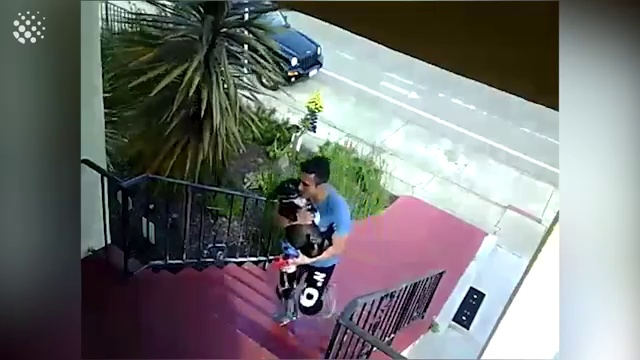face: (300, 171, 319, 198)
